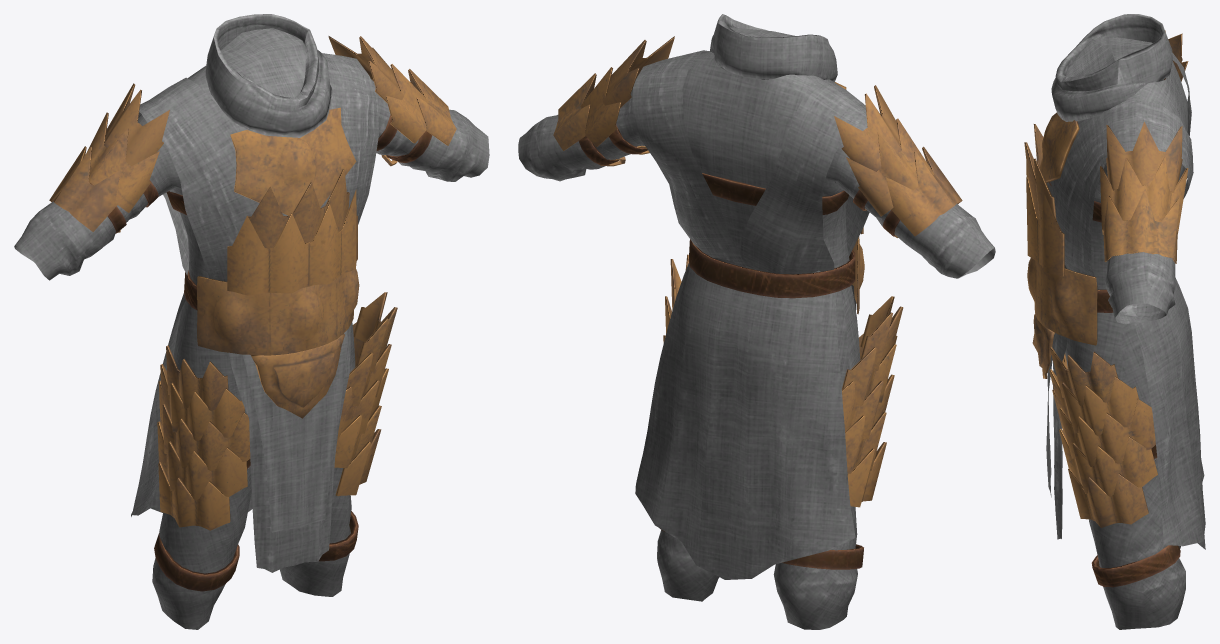
Rendered from easterling_torso_slim.fbx.
3 renders of one model, left to right at view 1: azimuth 30°, elevation 25°; view 2: azimuth 150°, elevation 25°; view 3: azimuth 270°, elevation 25°, orthographic. The views are drawn at different scales.
Parts seen in each view (by area): view 1: easterling_torso_slim; view 2: easterling_torso_slim; view 3: easterling_torso_slim.
Part boxes in pixels (x1,y1,x2,y2): easterling_torso_slim: (14, 14, 489, 629); easterling_torso_slim: (518, 14, 995, 629); easterling_torso_slim: (1024, 14, 1205, 629).
Bounding box in the file's own units: 1.1 × 0.3799 × 1.3.
Materials: 1 (1 with a texture image).
